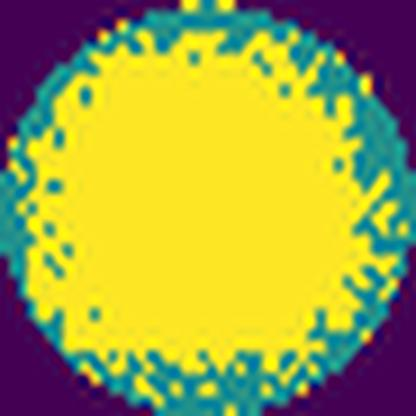Center: (31, 31, 370, 360)
